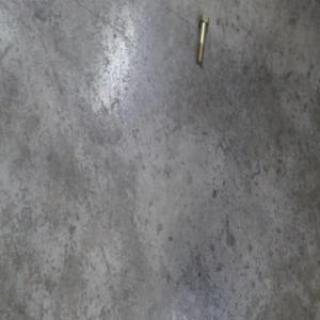Bolttrack_idkeyframe: (194, 12, 210, 63)
